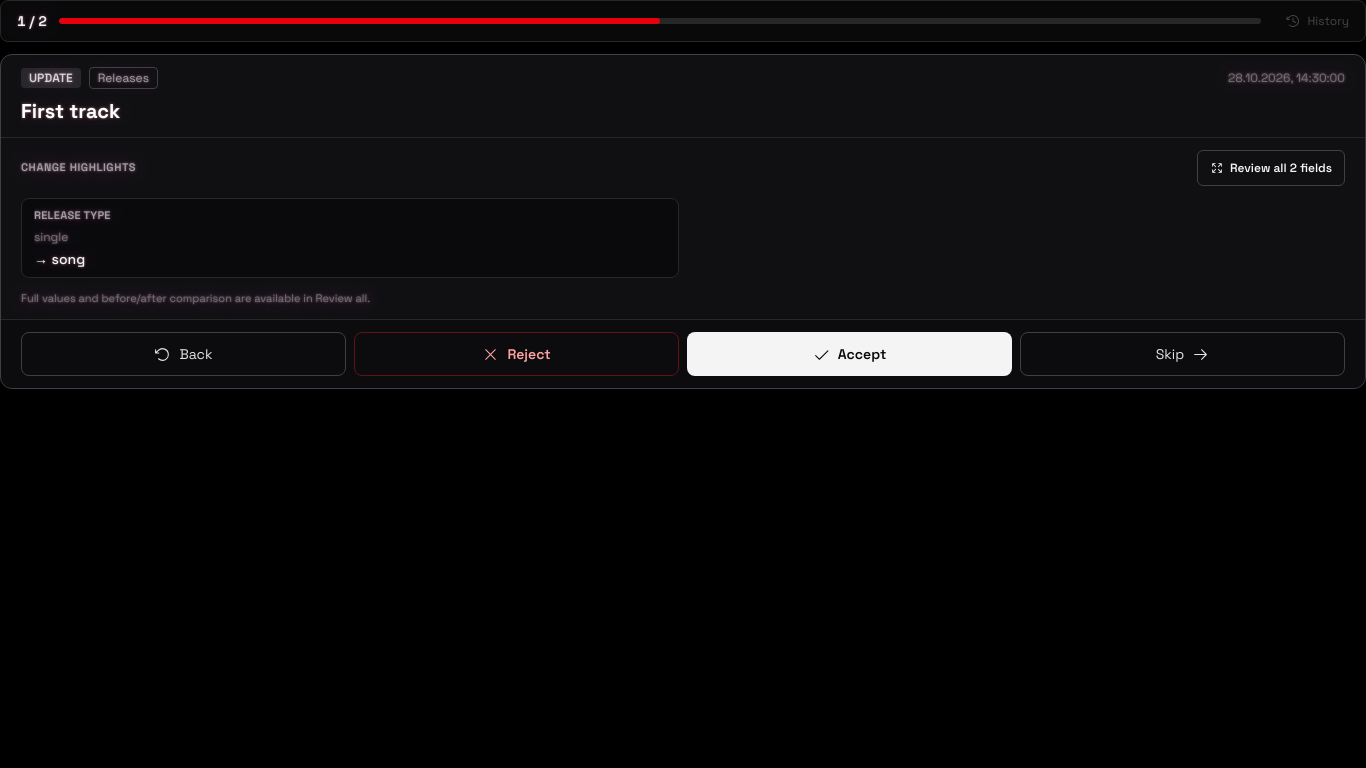
AI content review carousel › displays only one proposal and hides technical JSON by default
expect the heading "First track" is shown: met, box [21, 98, 120, 124]
expect the text "Release type" is shown: met, box [34, 208, 111, 222]
What coordinates should you click on to do the following:
click the button "Review all 2 fields"
I would click on:
 (1271, 168)
Its box is [1197, 150, 1345, 186].
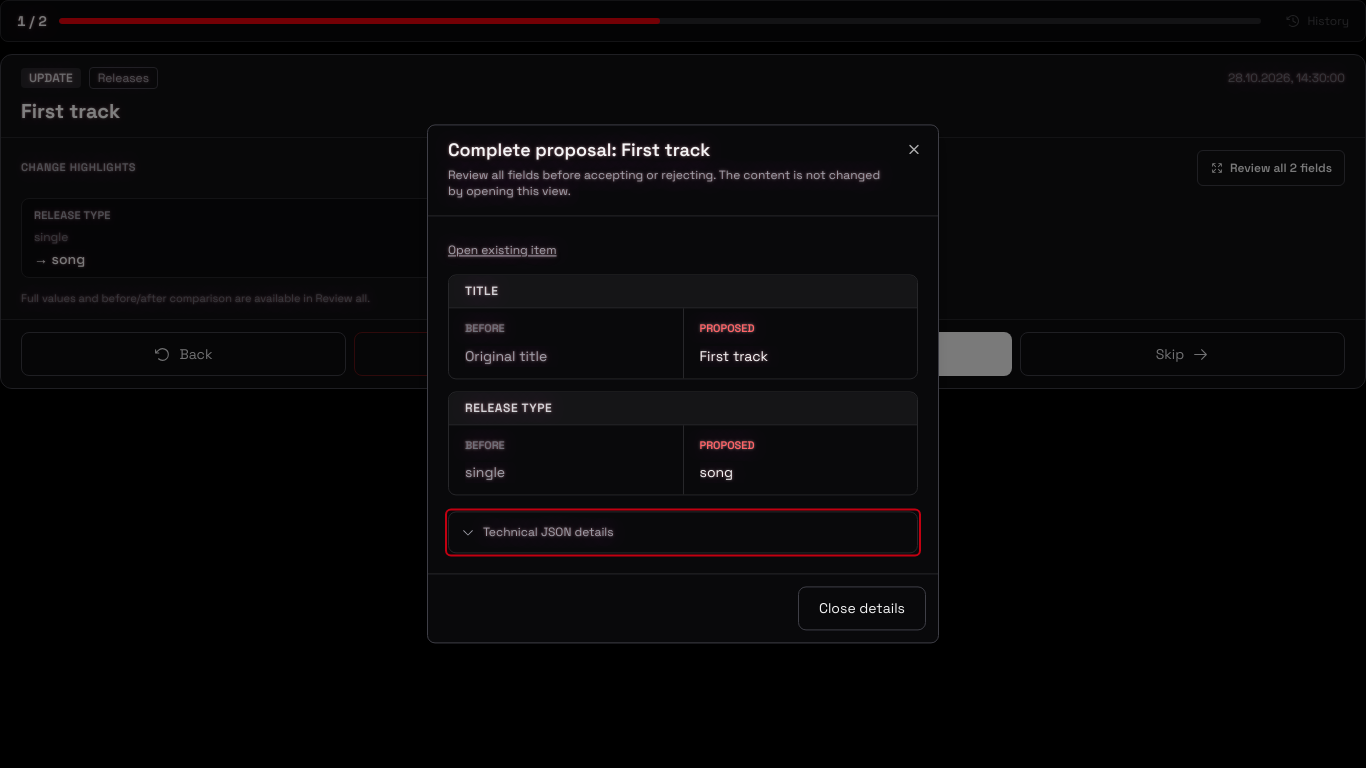
expect the text "Original title" is shown: met, box [465, 347, 547, 365]
expect the heading "Technical JSON details" is shown: met, box [461, 525, 614, 541]
